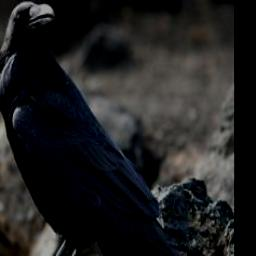Crow: (0, 0, 230, 256)
